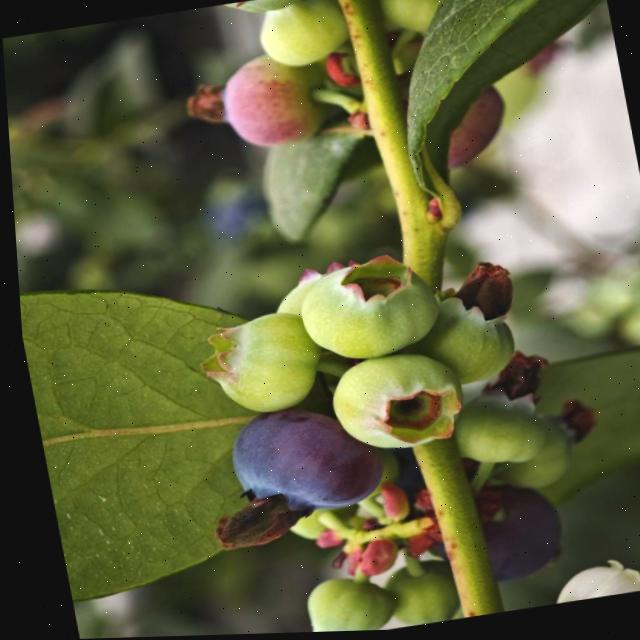RipeBlueBerry: (215, 398, 378, 527)
Semi-RipeBlueBerry: (197, 45, 327, 157)
UnripeBlueBerry: (286, 247, 443, 366), (317, 346, 467, 460), (191, 305, 321, 420), (396, 277, 519, 394), (444, 384, 548, 475), (250, 0, 356, 71), (291, 569, 392, 634), (373, 552, 452, 629)
